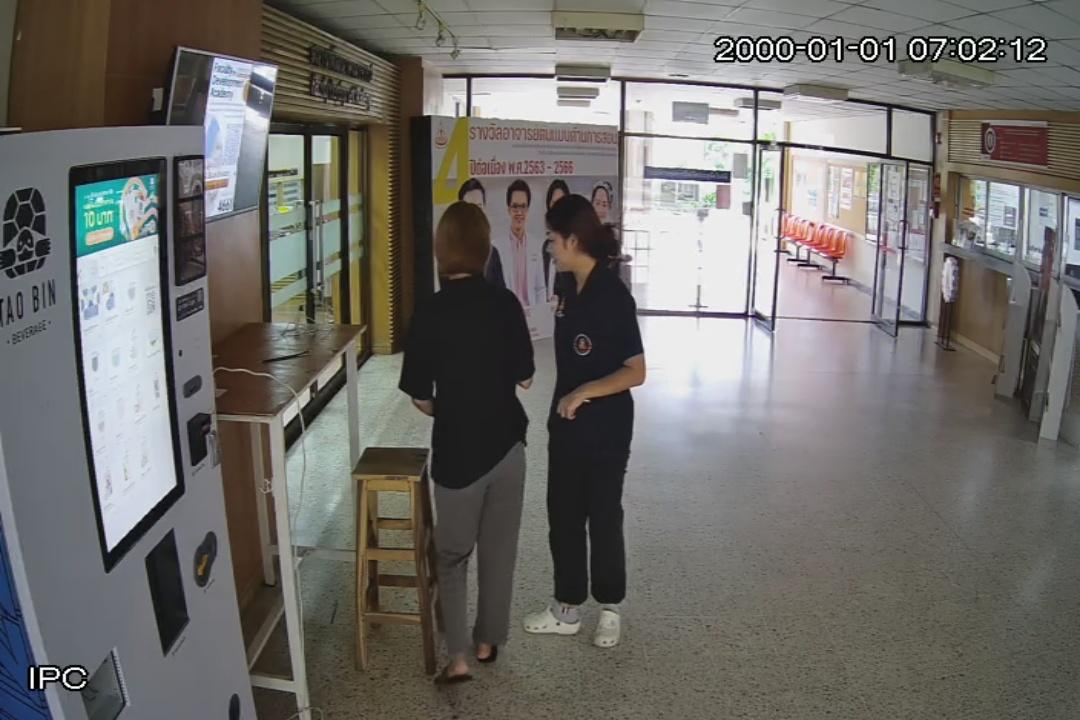normal: (398, 196, 542, 688), (518, 192, 654, 652)
